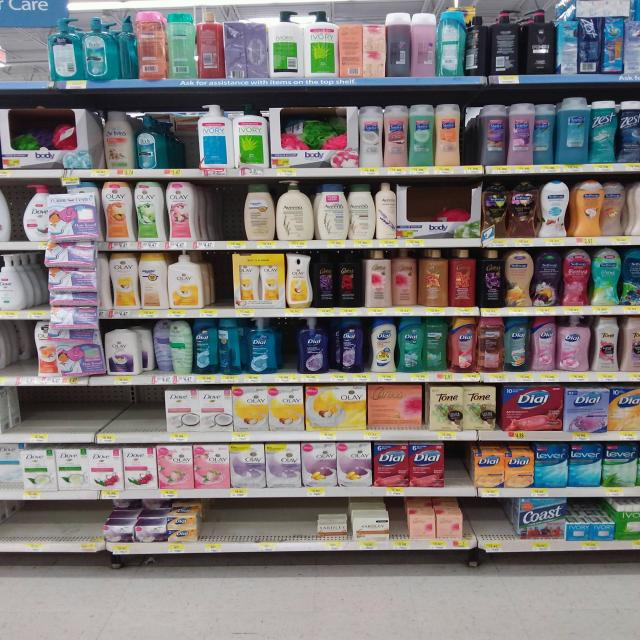void: (0, 10, 44, 90), (198, 180, 240, 251), (81, 384, 121, 446), (122, 385, 164, 443), (0, 387, 39, 445), (40, 386, 79, 442), (167, 104, 196, 178), (273, 500, 313, 552), (198, 501, 234, 552), (67, 502, 101, 554), (236, 500, 270, 552), (33, 503, 65, 553), (0, 504, 31, 553), (490, 498, 517, 552), (464, 499, 489, 555)
